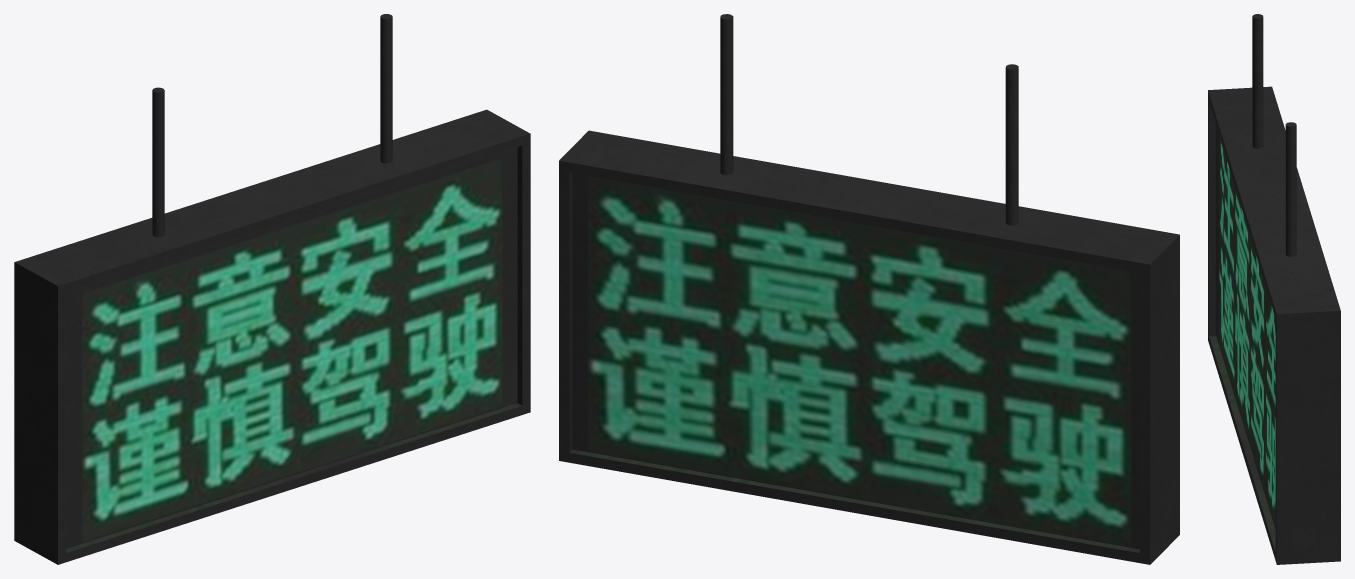
Rendered from board.obj.
3 views of the same model, side by side, from view 1: azimuth 30°, elevation 25°; view 2: azimuth 150°, elevation 25°; view 3: azimuth 270°, elevation 25° (orthographic). The views are drawn at different scales.
Visible parts, largest first — view 1: DNKBQBBZ2; view 2: DNKBQBBZ2; view 3: DNKBQBBZ2.
Boxes of the visible parts, x1,y1,x2,y2 form: DNKBQBBZ2: (14, 14, 530, 564); DNKBQBBZ2: (559, 14, 1179, 564); DNKBQBBZ2: (1208, 14, 1340, 564).
Size of the model in its own units: 2.92 by 2.28 by 0.72.
